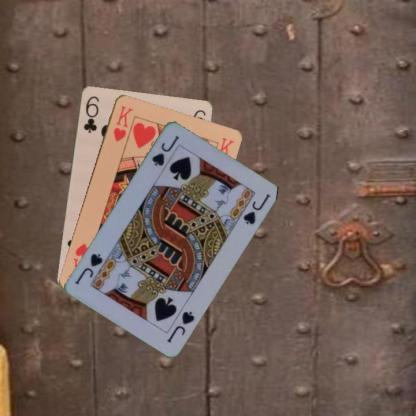6c: (80, 93, 100, 134)
Js: (149, 132, 181, 175), (164, 308, 198, 344)
Kh: (110, 103, 135, 143)
